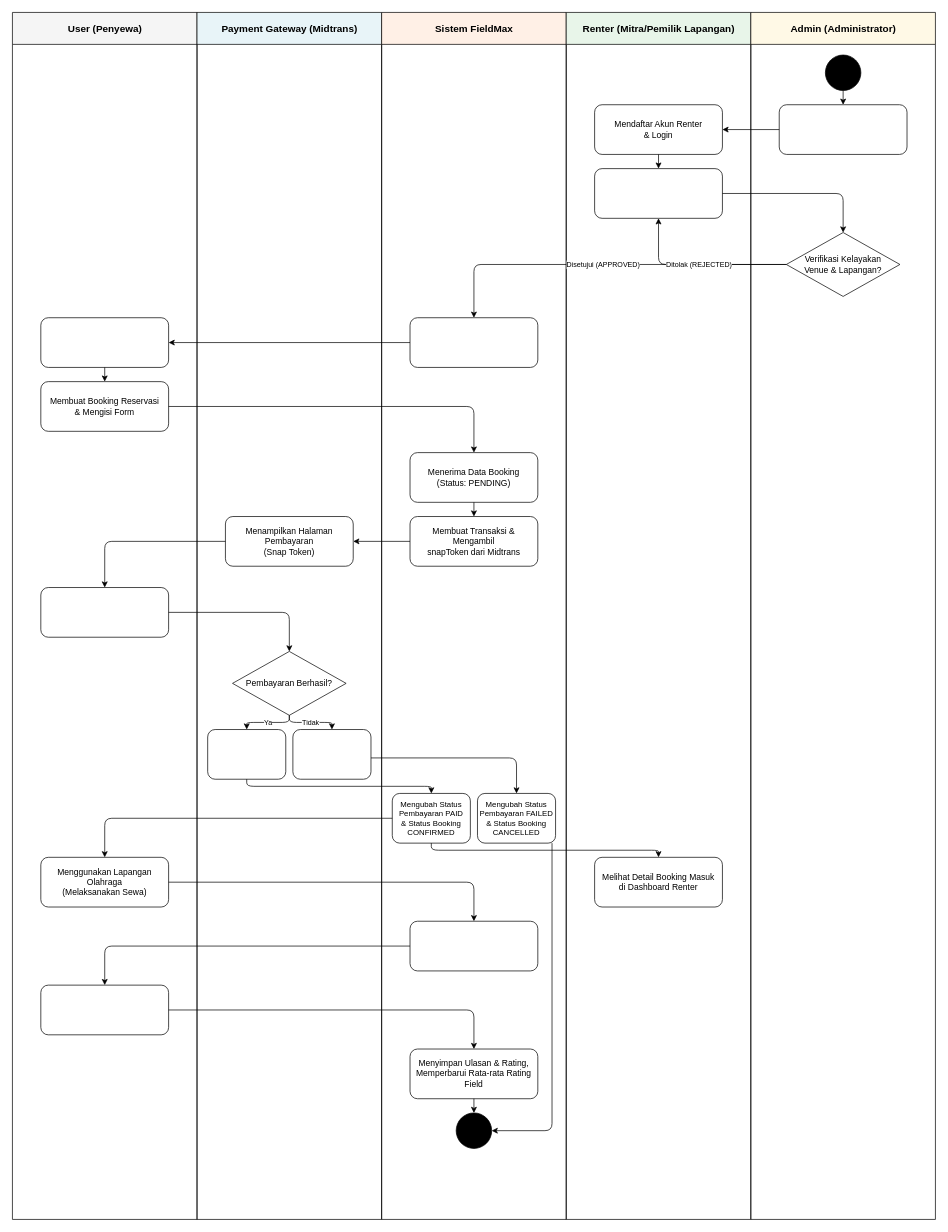
This 948x1232 diagram has some shape labels left out. The centre of each missing label's shape, as x and y in pixels:
"Melakukan Proses Pembayaran" belongs at pixel 104 612.
"Membuat Kategori Olahraga (Sport Type)" belongs at pixel 843 129.
"Menampilkan Daftar Lapangan & Jadwal Ketersediaan" belongs at pixel 473 342.
"Mencari & Memilih Lapangan, Tanggal & Waktu Sewa" belongs at pixel 104 342.
"Mendaftarkan Venue & Lapangan & Mengajukan Verifikasi" belongs at pixel 658 193.
"Mengisi Ulasan & Rating untuk Lapangan" belongs at pixel 104 1009.
"Mengubah Status Booking jadi COMPLETED Setelah Jadwal Sewa Berakhir (Cron Job)" belongs at pixel 473 946.
"Trigger Webhook Pembayaran Berhasil (settlement/capture)" belongs at pixel 246 754.
"Trigger Webhook Pembayaran Gagal/Expired (deny/expire/cancel)" belongs at pixel 331 754.
